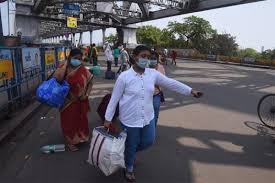mask: (129, 44, 151, 72), (68, 48, 85, 67), (147, 49, 160, 67), (116, 42, 125, 53)
